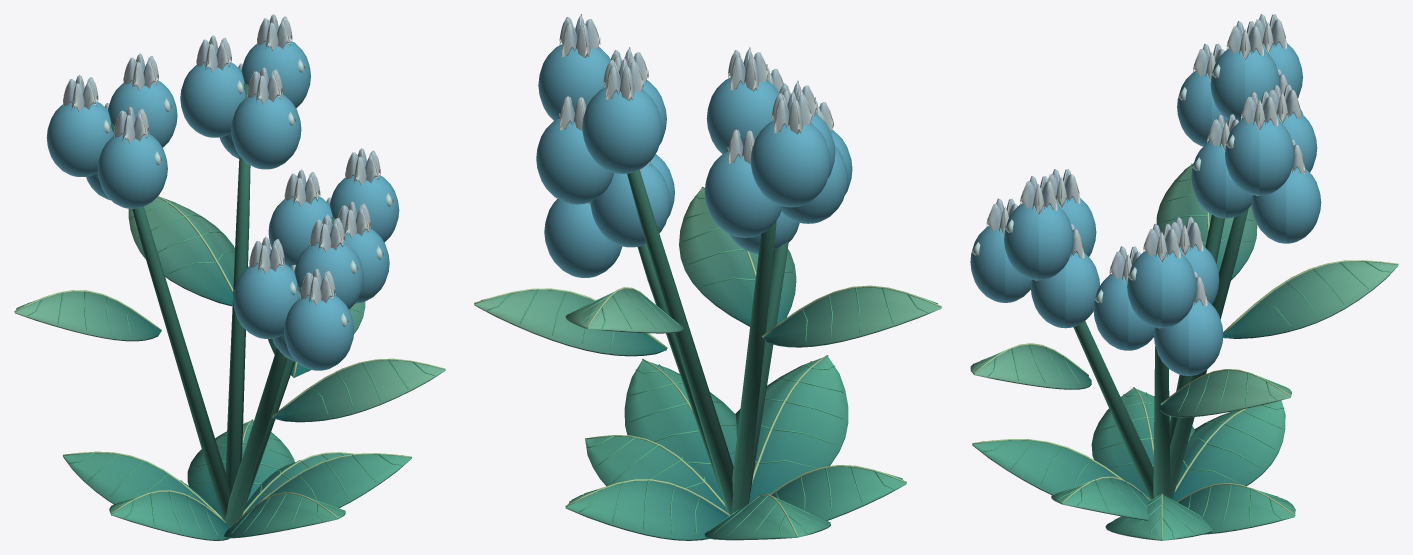
Rendered from enchanted-iceberry.glb.
The picture shows the model from 3 angles, left to right: view 1: azimuth 30°, elevation 25°; view 2: azimuth 150°, elevation 25°; view 3: azimuth 270°, elevation 25°; orthographic projection. The views are drawn at different scales.
Parts seen in each view (by area): view 1: enchanted-iceberry-sculpted-details; view 2: enchanted-iceberry-sculpted-details; view 3: enchanted-iceberry-sculpted-details.
Boxes of the visible parts, <box> form: enchanted-iceberry-sculpted-details: <box>14,14,445,540</box>; enchanted-iceberry-sculpted-details: <box>474,14,941,540</box>; enchanted-iceberry-sculpted-details: <box>970,14,1398,540</box>.
Size of the model in its own units: 0.8473 by 1 by 0.8334.
